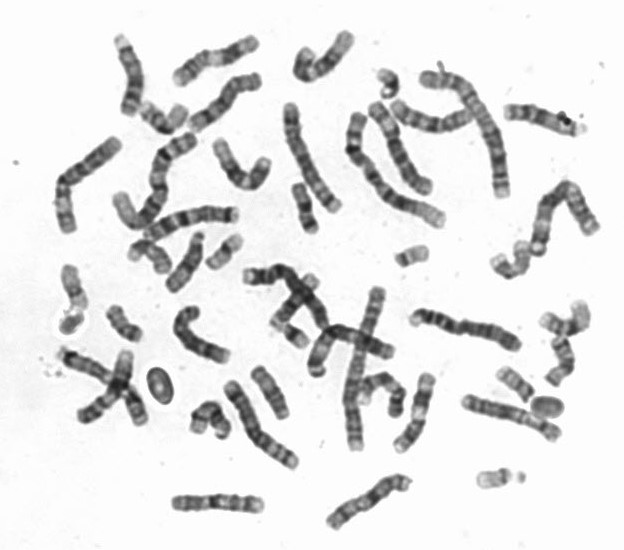chromosomes: (417, 64, 521, 202), (343, 103, 450, 235), (336, 278, 392, 455), (47, 126, 128, 244), (110, 129, 201, 231), (52, 343, 154, 431), (222, 372, 306, 475), (528, 170, 610, 267), (365, 98, 442, 199), (281, 99, 346, 217), (238, 260, 335, 338), (318, 467, 421, 537), (304, 319, 406, 381), (164, 31, 265, 92), (70, 343, 140, 430), (406, 305, 527, 355), (186, 69, 275, 135), (385, 367, 443, 464), (459, 394, 564, 444), (285, 24, 361, 90), (145, 199, 247, 248), (501, 95, 597, 146), (387, 98, 481, 146), (208, 132, 276, 197), (170, 300, 233, 368), (164, 485, 273, 524), (107, 26, 148, 123), (52, 253, 95, 340), (267, 271, 325, 331), (164, 223, 211, 295), (353, 368, 411, 423), (253, 357, 296, 429), (535, 293, 595, 342), (535, 332, 586, 389), (483, 235, 539, 286), (131, 94, 192, 139), (470, 457, 536, 498), (182, 397, 234, 446), (125, 235, 175, 283), (102, 295, 148, 347), (202, 230, 256, 274), (489, 360, 538, 406), (291, 175, 324, 239), (386, 242, 439, 274), (372, 62, 405, 109), (281, 322, 313, 352)
